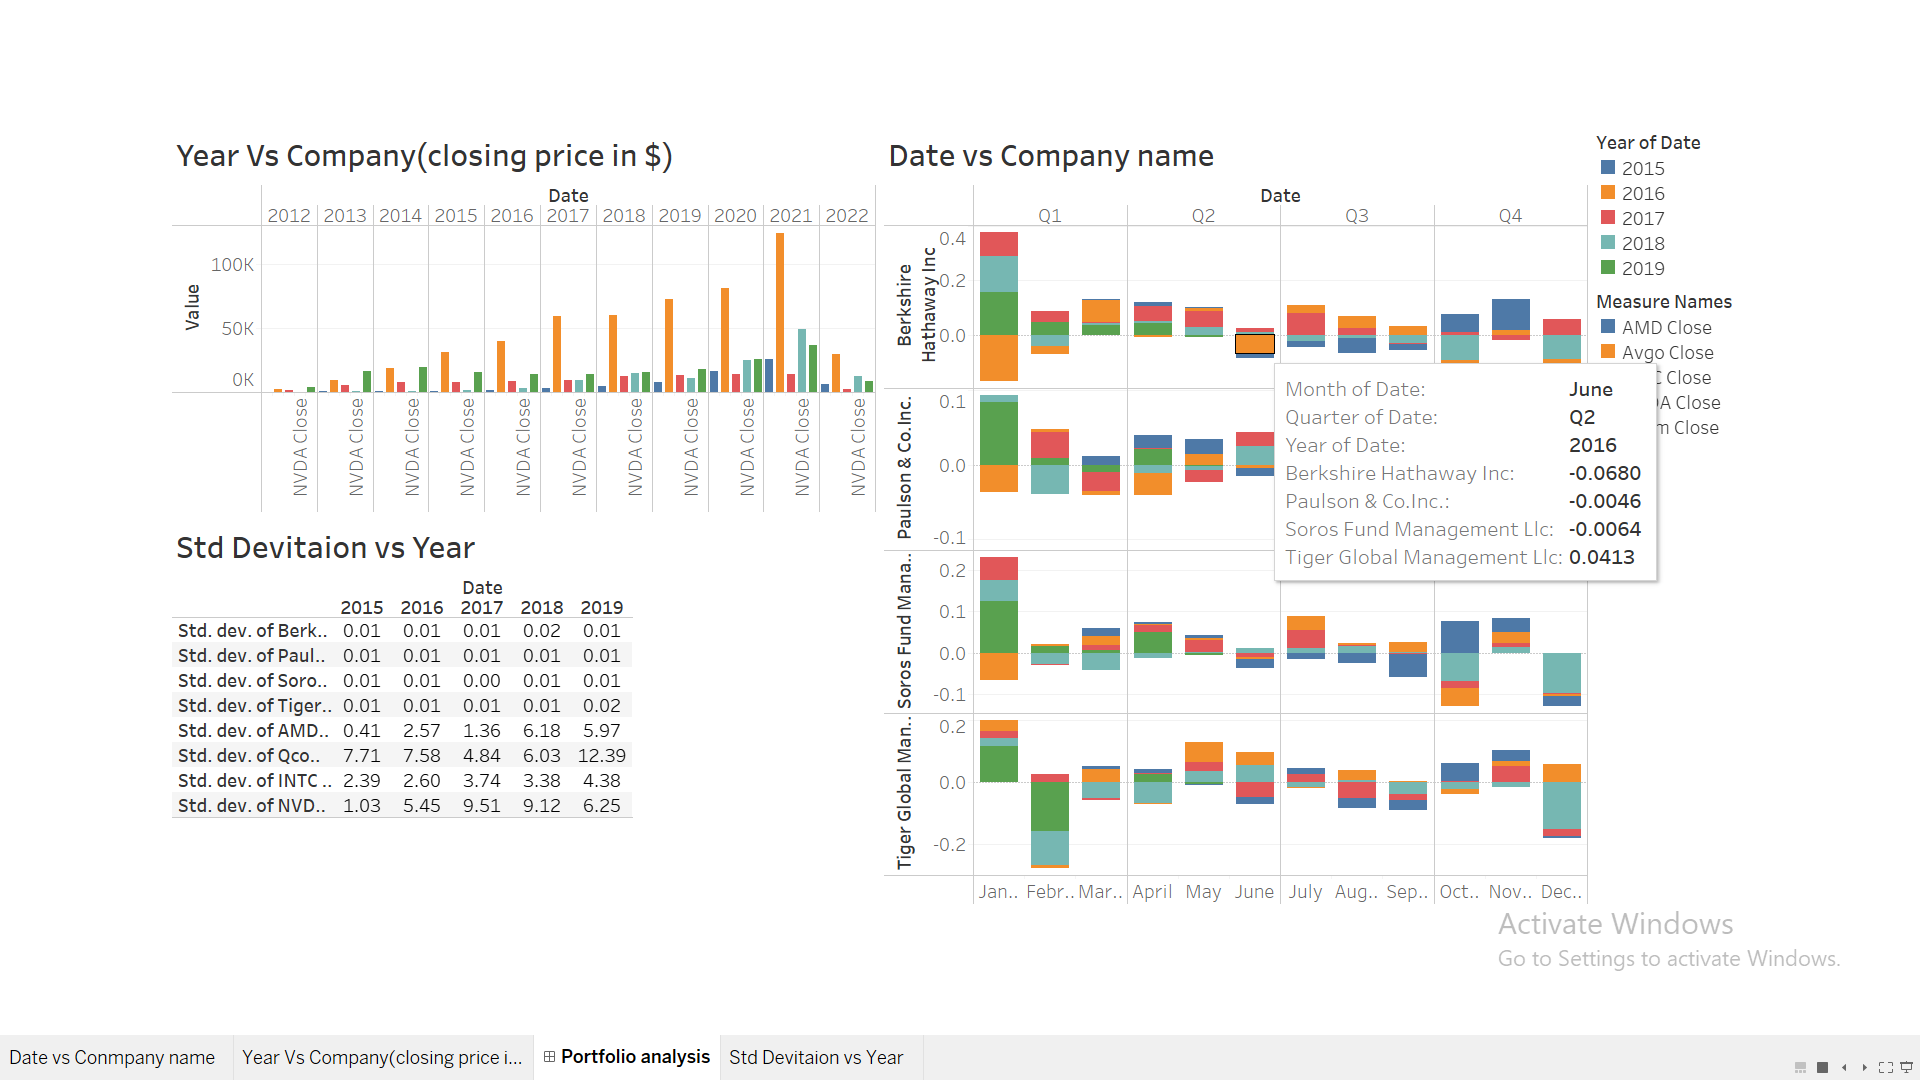

Layout of this report page (visuals, bound fields, positions):
{"tool":"tableau","page":{"name":"Portfolio analysis","canvas":[1600,800],"ordinal":0},"visuals":[{"type":"worksheet","title":"Year Vs Company(closing price in $)","mark":"Bar","cols":["Date"],"box":[8,8,712,392]},{"type":"worksheet","title":"Date vs Conmpany name","mark":"Bar","rows":["BERKSHIRE HATHAWAY INC","PAULSON & CO.INC. ","SOROS FUND MANAGEMENT LLC","TIGER GLOBAL MANAGEMENT LLC"],"cols":["Date","Date"],"box":[720,8,712,784]},{"type":"legend","title":"Date vs Conmpany name","param":"[federated.0vt56ce0uzfk5n14tkayy0fai4vp].[yr:Date:ok]","box":[1432,8,160,159]},{"type":"legend","title":"Year Vs Company(closing price in $)","param":"[federated.0hvkysp1h6hodo1c6rhlx1o8bi6g].[:Measure Names]","box":[1432,167,160,159]},{"type":"worksheet","title":"Std Devitaion vs Year","mark":"Automatic","cols":["Date"],"box":[8,400,712,392]}]}

Visuals, with their boxes on the page's 1600x800 design canvas (x1, y1, x2, y2). These are canvas units, not pixel positions in the 1920x1080 screenshot, which may show the page scaled, cropped or inside an application window:
"Year Vs Company(closing price in $)" worksheet (Bar marks): detection(8, 8, 720, 400)
"Date vs Conmpany name" worksheet (Bar marks): detection(720, 8, 1432, 792)
"Date vs Conmpany name" legend: detection(1432, 8, 1592, 167)
"Year Vs Company(closing price in $)" legend: detection(1432, 167, 1592, 326)
"Std Devitaion vs Year" worksheet: detection(8, 400, 720, 792)
